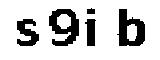9: (46, 6, 80, 49)
b: (115, 8, 147, 50)
i: (85, 7, 103, 47)
s: (13, 17, 41, 50)
